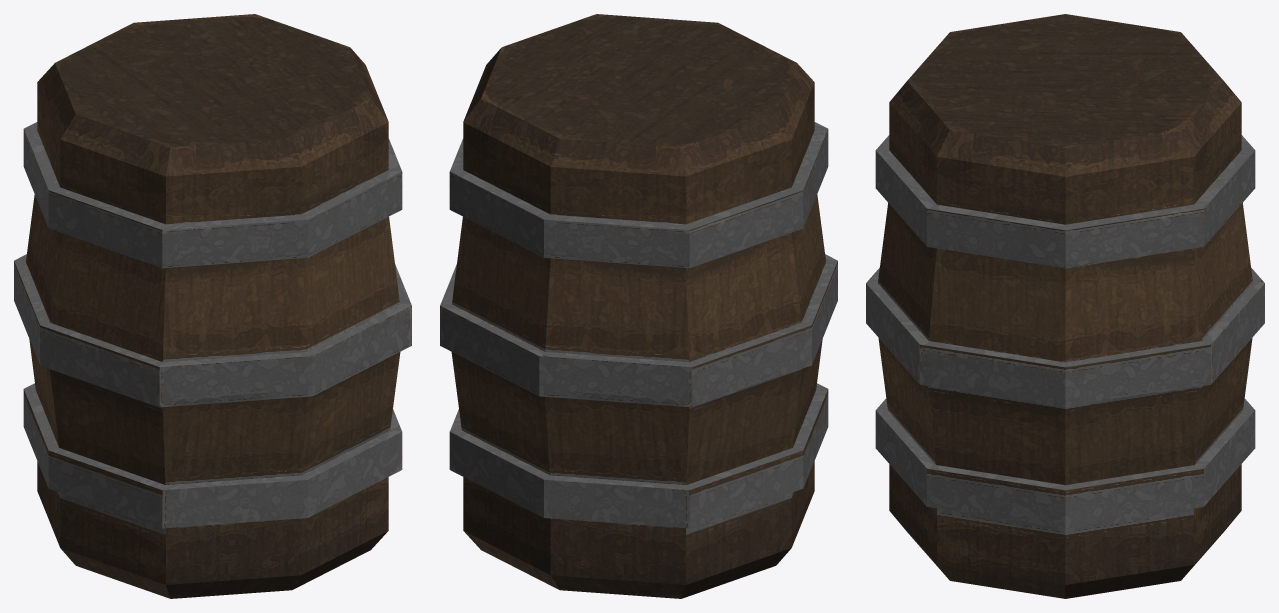
Rendered from barrel.fbx.
3 views of the same model, side by side, from view 1: azimuth 30°, elevation 25°; view 2: azimuth 150°, elevation 25°; view 3: azimuth 270°, elevation 25° (orthographic).
Visible parts, largest first — view 1: barrel; view 2: barrel; view 3: barrel.
Part boxes in pixels (x1,y1,x2,y2): barrel: (14, 14, 411, 598); barrel: (440, 14, 837, 598); barrel: (866, 14, 1264, 598).
Size of the model in its own units: 386 by 481 by 386.
Materials: 1 (1 with a texture image).
